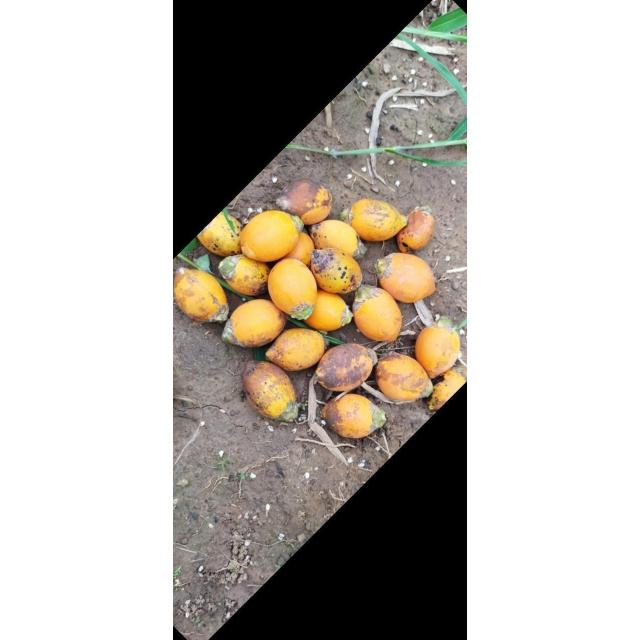good: (241, 360, 299, 420), (267, 258, 319, 318), (314, 342, 376, 392), (321, 392, 387, 438), (173, 268, 227, 324), (375, 253, 435, 303), (224, 300, 286, 348), (352, 286, 402, 342), (374, 354, 432, 402), (349, 198, 408, 242), (276, 178, 332, 224), (265, 328, 325, 370), (310, 248, 364, 294), (416, 326, 462, 378), (308, 220, 364, 260), (218, 255, 270, 298), (196, 210, 242, 256), (302, 290, 352, 332), (396, 208, 436, 252), (426, 368, 466, 410), (283, 232, 315, 266)
